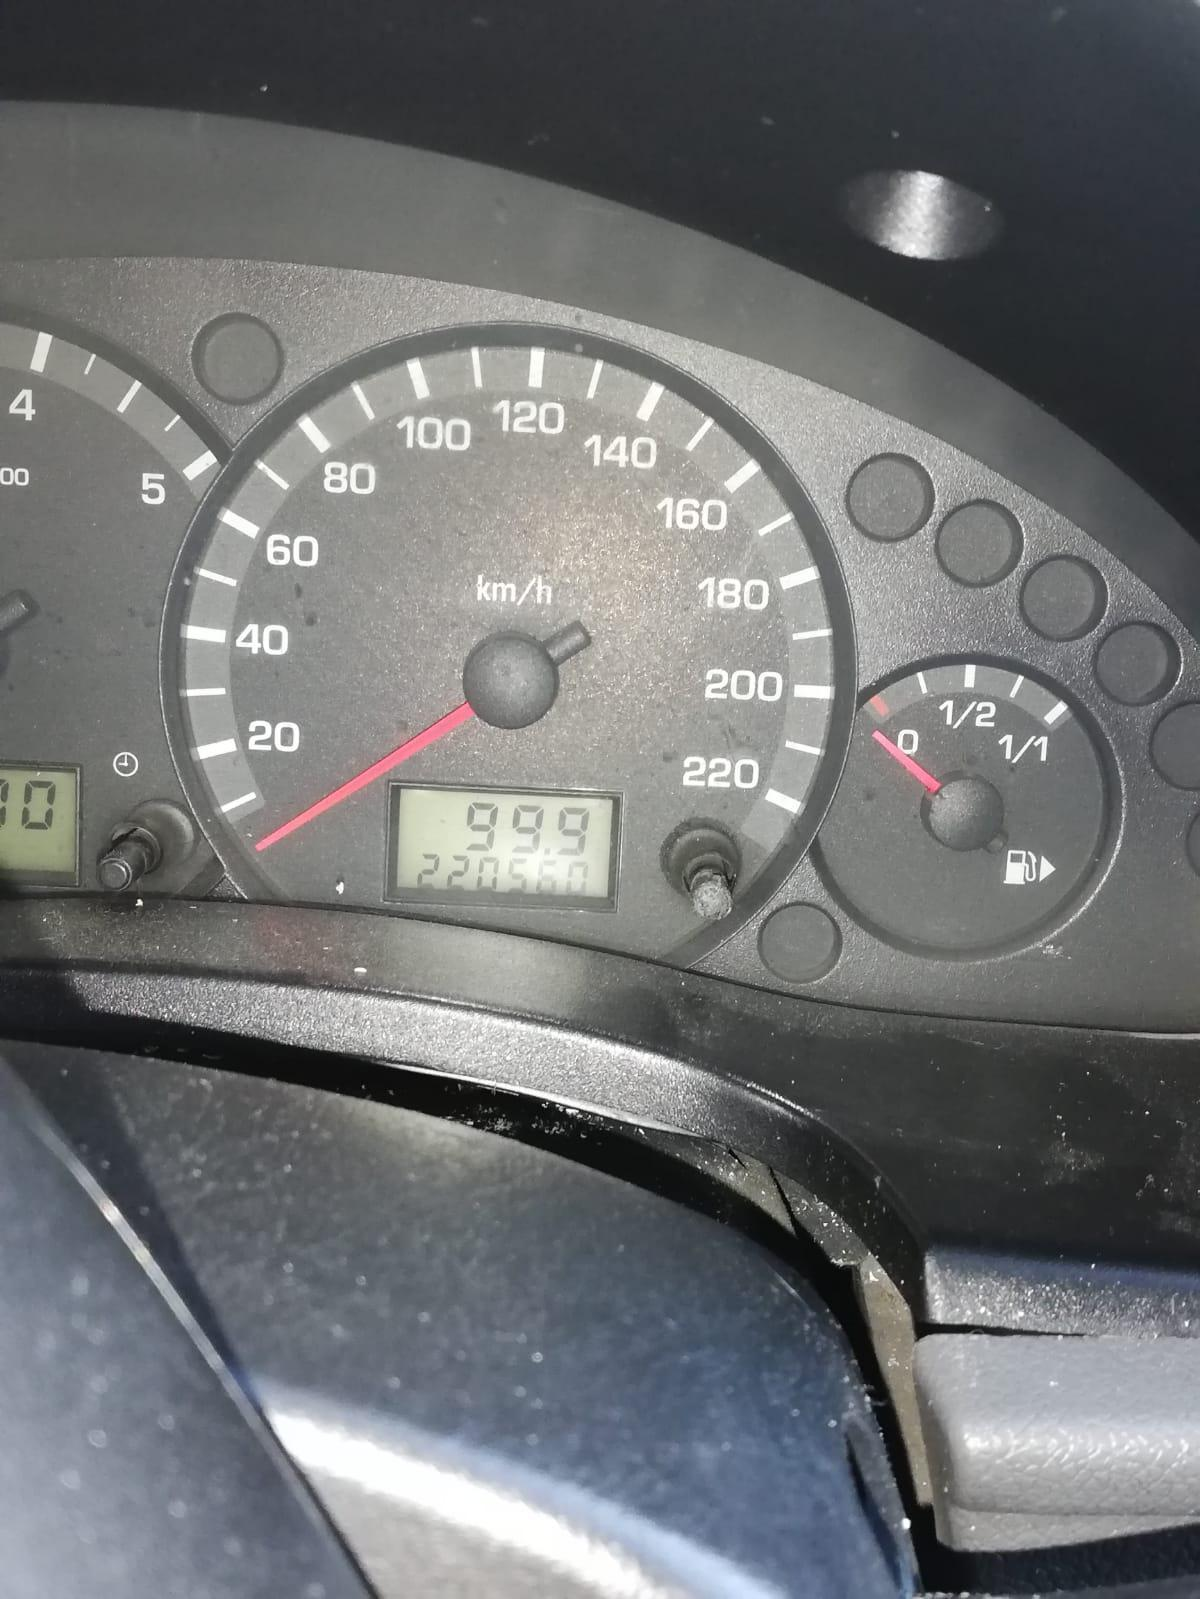,: (543, 845, 551, 856)
0: (566, 861, 589, 896), (476, 856, 499, 890)
2: (446, 854, 470, 891), (415, 853, 439, 890)
5: (507, 857, 528, 893)
6: (536, 859, 558, 893)
9: (465, 801, 499, 851), (511, 804, 543, 854), (557, 806, 590, 856)
odometer: (378, 777, 626, 917)
